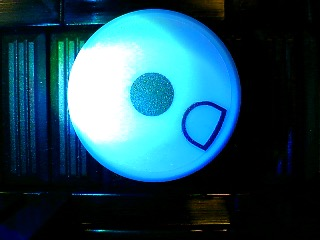BOHOMIPO1: (66, 8, 242, 183)
